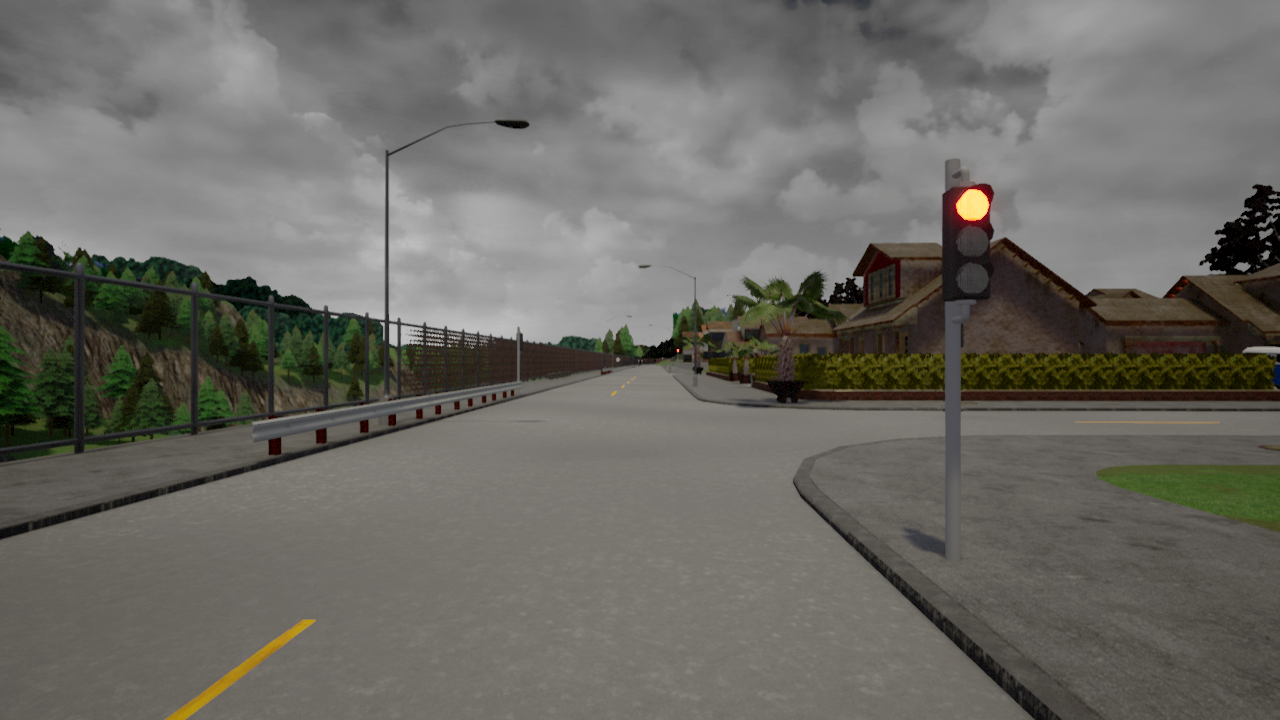red: (942, 184, 998, 301)
